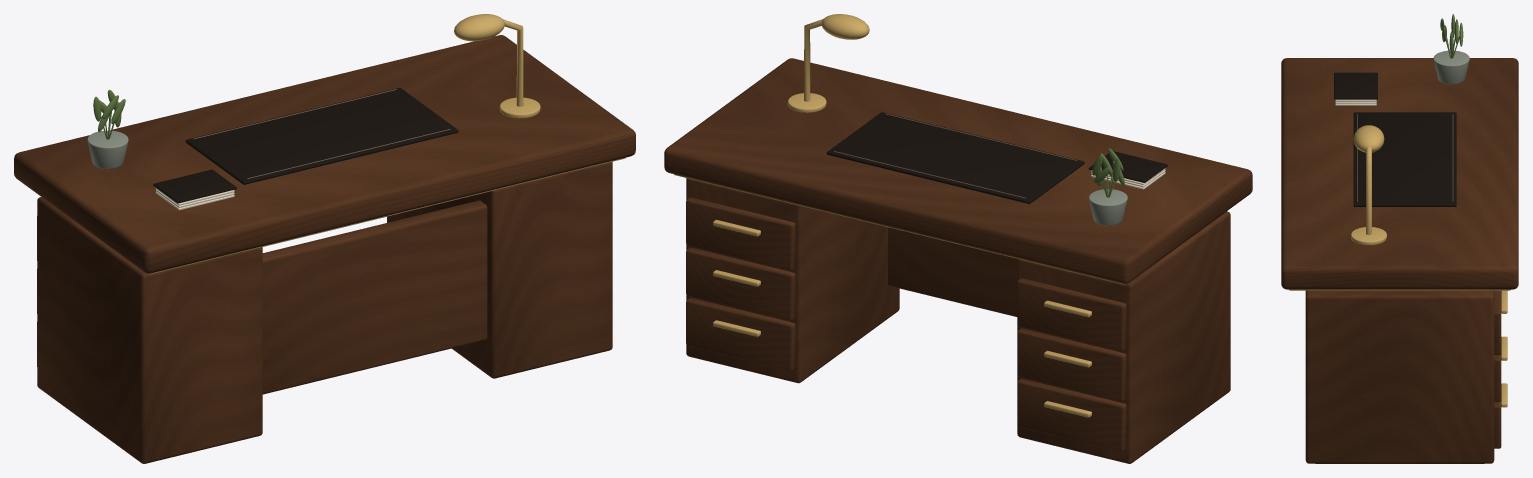
The model's file is desk-v1.glb.
3 views of the same model, side by side, from view 1: azimuth 30°, elevation 25°; view 2: azimuth 150°, elevation 25°; view 3: azimuth 270°, elevation 25° (orthographic). The views are drawn at different scales.
Parts seen in each view (by area): view 1: Continuous beveled walnut top; view 2: Continuous beveled walnut top; view 3: Continuous beveled walnut top.
Part boxes in pixels (box(x1,y1,x2,y2)): Continuous beveled walnut top: box(14, 14, 635, 463); Continuous beveled walnut top: box(664, 14, 1252, 463); Continuous beveled walnut top: box(1281, 14, 1518, 463).
Bounding box in the file's own units: 1.94 × 1.26 × 0.92.
8 materials, 2 textured.
